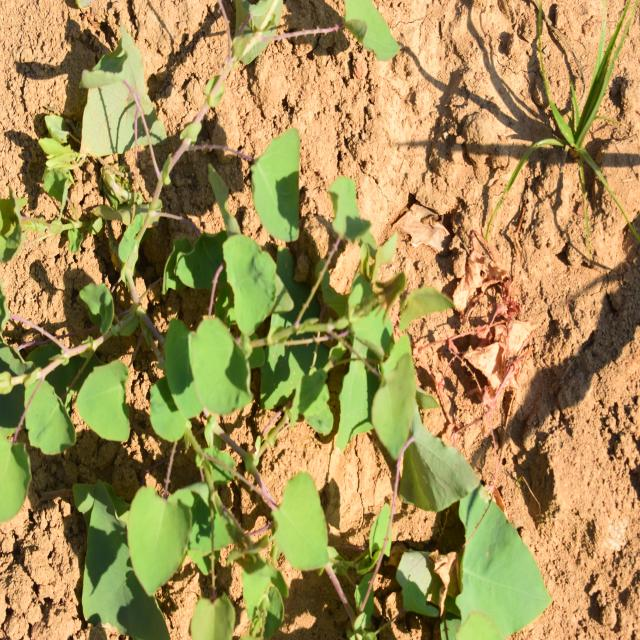Asiatic_Smartweed: (128, 324, 330, 620), (297, 157, 459, 454), (204, 125, 322, 326), (4, 352, 128, 516)
